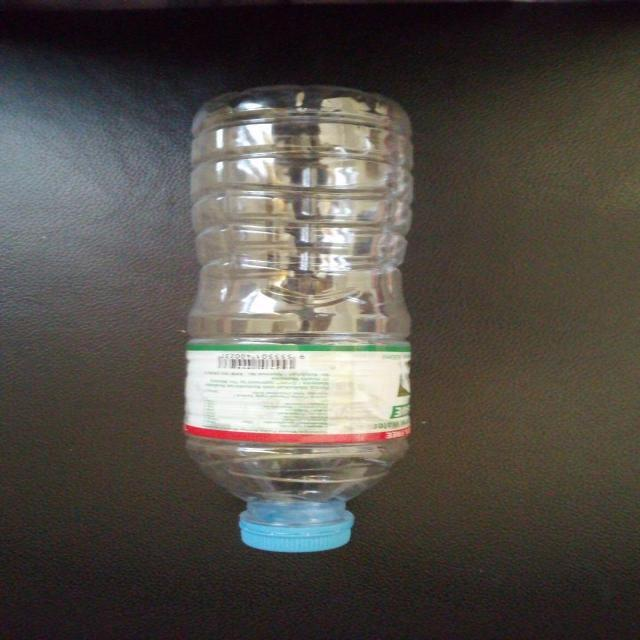Pet_Bottle: (186, 81, 424, 554)
